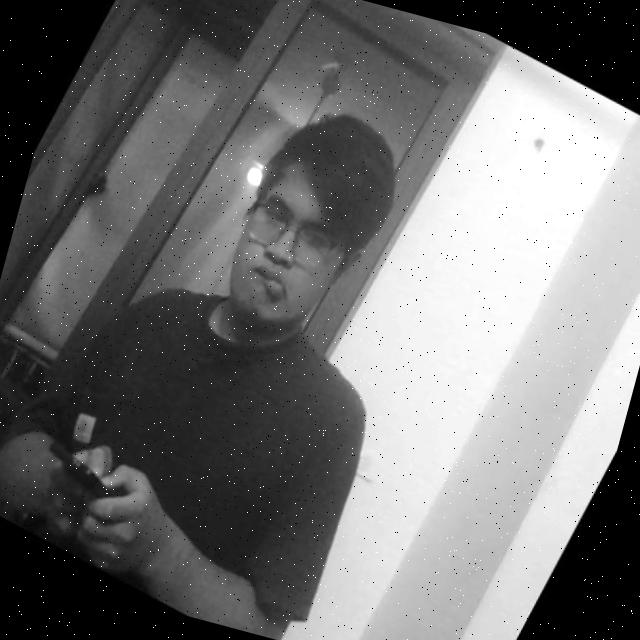phone: (6, 412, 147, 530)
